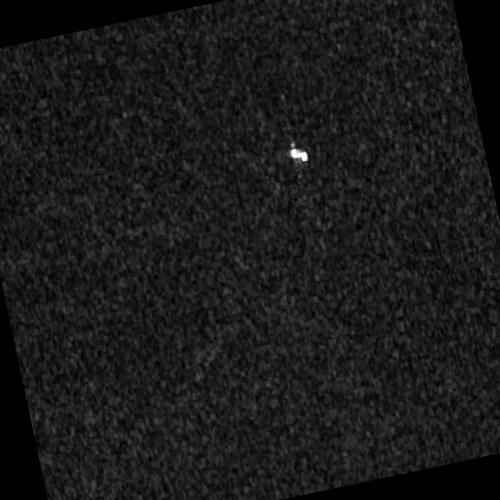ship: (288, 147, 308, 161)
